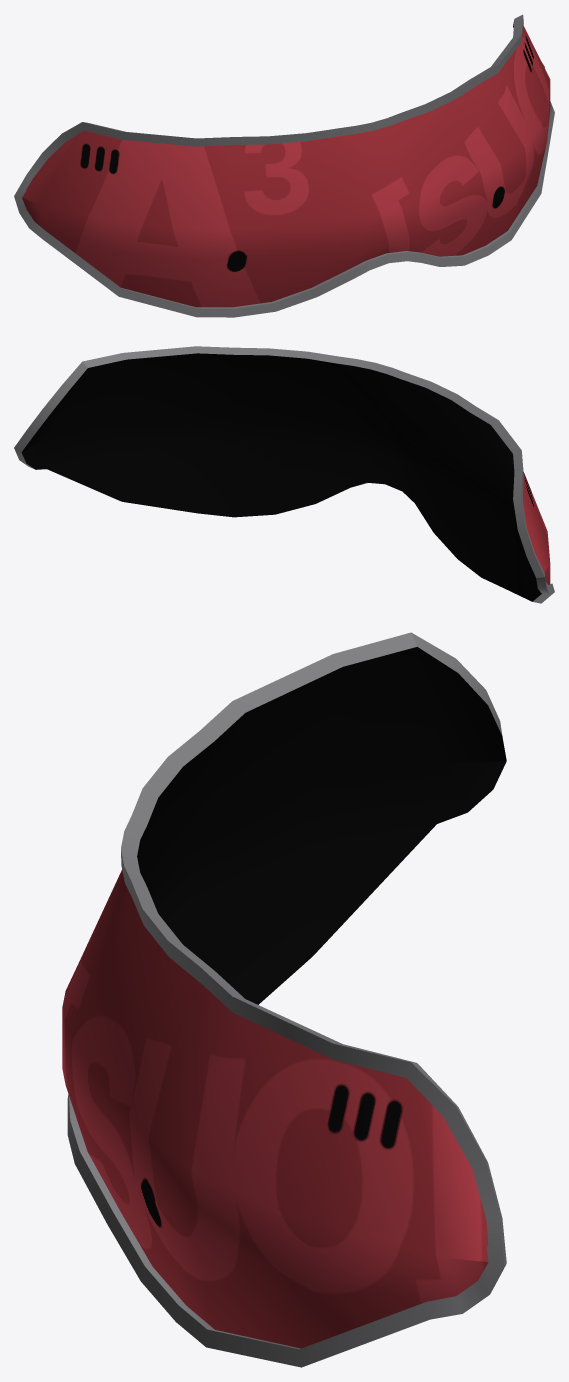
Rendered from a3-addon.glb.
3 views of the same model, one above another, from view 1: azimuth 30°, elevation 25°; view 2: azimuth 150°, elevation 25°; view 3: azimuth 270°, elevation 25° (orthographic). The views are drawn at different scales.
Visible parts, largest first — view 1: Front_Add_(A3); view 2: Front_Add_(A3); view 3: Front_Add_(A3).
Part boxes in pixels (box(x1,y1,x2,y2)): Front_Add_(A3): box(14, 14, 554, 317); Front_Add_(A3): box(14, 346, 554, 603); Front_Add_(A3): box(62, 632, 506, 1367).
Bounding box in the file's own units: 1.43 × 0.4527 × 0.5202.
1 material, 1 textured.
